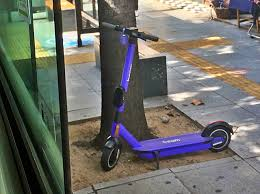guide_blocks: (190, 56, 226, 80), (177, 34, 229, 49), (63, 53, 97, 62)
kick_board: (101, 24, 231, 170)
kick_handler: (113, 25, 158, 43)
kick_wheel: (206, 121, 232, 150), (102, 139, 122, 170)
